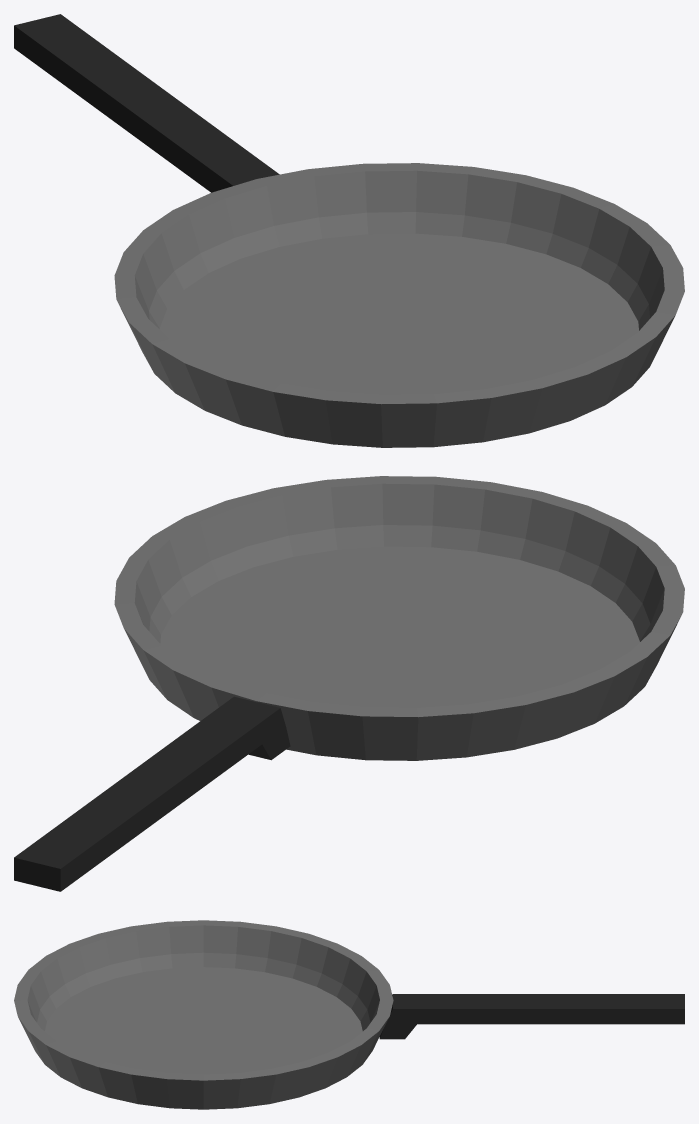
The model's file is pan.fbx.
3 views of the same model, one above another, from view 1: azimuth 30°, elevation 25°; view 2: azimuth 150°, elevation 25°; view 3: azimuth 270°, elevation 25° (orthographic). The views are drawn at different scales.
Parts seen in each view (by area): view 1: Cylinder, Cube; view 2: Cylinder, Cube; view 3: Cylinder, Cube.
Part boxes in pixels (<box>): Cylinder: <box>114,163,684,447</box>; Cube: <box>14,14,279,192</box>; Cylinder: <box>114,476,684,760</box>; Cube: <box>14,696,290,891</box>; Cylinder: <box>14,920,393,1109</box>; Cube: <box>379,994,684,1039</box>.
Bounding box in the file's own units: 276 × 35.05 × 489.
2 materials, 2 textured.
